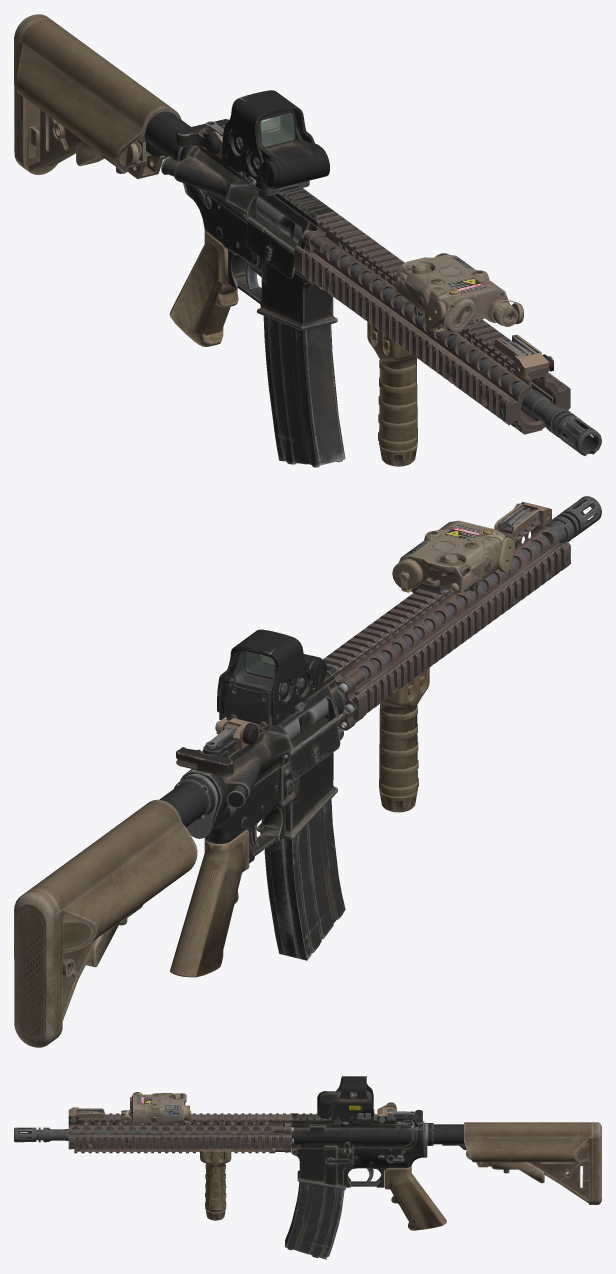
The picture shows the model from 3 angles, top to bottom: view 1: azimuth 30°, elevation 25°; view 2: azimuth 150°, elevation 25°; view 3: azimuth 270°, elevation 25°; orthographic projection. The views are drawn at different scales.
Visible parts, largest first — view 1: part_1_low_lambert1_0, Ppart_1_low_g5_0, Fpart_1_low_g4_0, Tpart_1_low_g3_0, Spart_1_low_g2_0; view 2: part_1_low_lambert1_0, Fpart_1_low_g4_0, Ppart_1_low_g5_0, Tpart_1_low_g3_0, Spart_1_low_g2_0; view 3: part_1_low_lambert1_0, Fpart_1_low_g4_0, Ppart_1_low_g5_0, Tpart_1_low_g3_0, Spart_1_low_g2_0.
Boxes of the visible parts, left/top/right/bottom form: part_1_low_lambert1_0: left=169, top=121, right=553, bottom=467; Ppart_1_low_g5_0: left=294, top=212, right=601, bottom=456; Fpart_1_low_g4_0: left=14, top=14, right=228, bottom=178; Tpart_1_low_g3_0: left=161, top=127, right=342, bottom=330; Spart_1_low_g2_0: left=222, top=90, right=329, bottom=195; part_1_low_lambert1_0: left=170, top=502, right=551, bottom=977; Fpart_1_low_g4_0: left=14, top=747, right=233, bottom=1047; Ppart_1_low_g5_0: left=322, top=496, right=601, bottom=730; Tpart_1_low_g3_0: left=174, top=665, right=344, bottom=863; Spart_1_low_g2_0: left=217, top=629, right=326, bottom=731; part_1_low_lambert1_0: left=68, top=1092, right=446, bottom=1259; Fpart_1_low_g4_0: left=397, top=1110, right=601, bottom=1204; Ppart_1_low_g5_0: left=14, top=1113, right=293, bottom=1153; Tpart_1_low_g3_0: left=291, top=1113, right=433, bottom=1189; Spart_1_low_g2_0: left=317, top=1076, right=374, bottom=1126.
Bounding box in the file's own units: 8.85 × 34.49 × 104.
5 materials, 5 textured.
